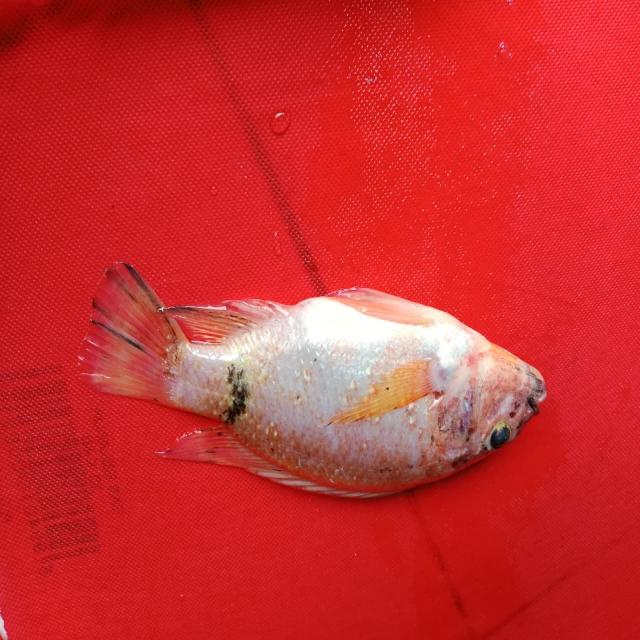ikan: (60, 220, 558, 511)
